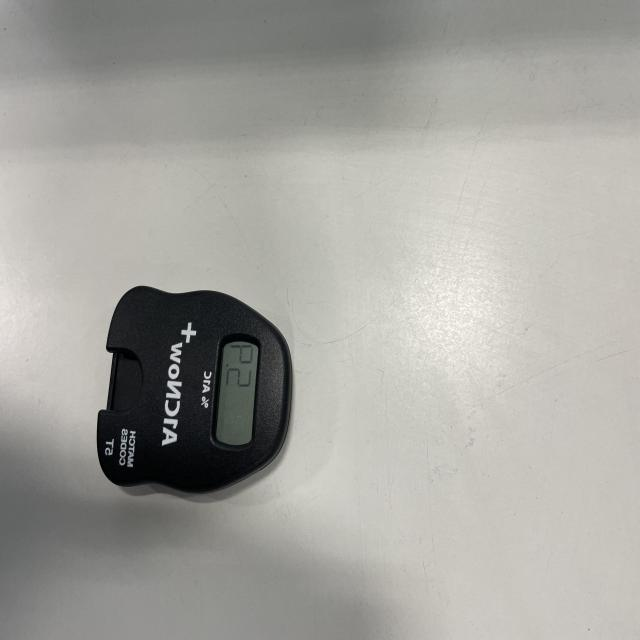hba1c: (96, 286, 295, 502)
